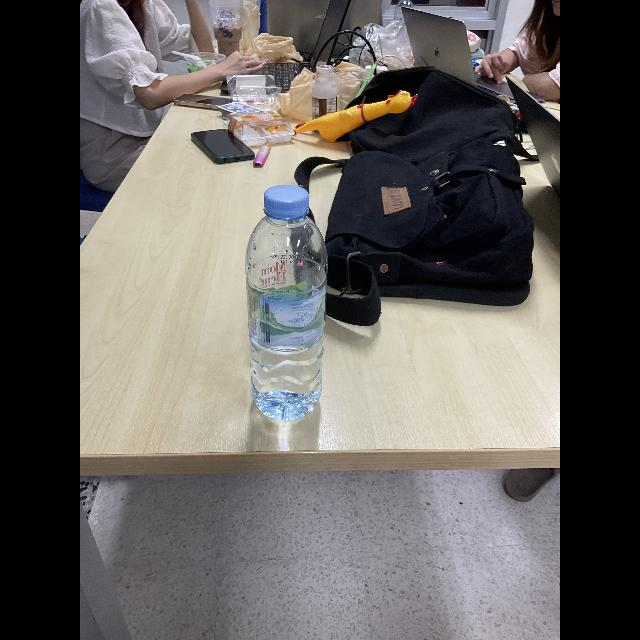plastic_bag: (276, 58, 372, 124), (350, 21, 420, 69), (243, 33, 304, 66), (237, 0, 260, 56)
plastic_bottle: (236, 180, 350, 432), (312, 65, 336, 121), (394, 1, 414, 23)
plastic_bottle_cap: (264, 182, 310, 222)
plastic_box: (224, 110, 294, 146), (226, 74, 278, 108)
plastic_cultery: (170, 50, 206, 66)
plastic_cup: (210, 0, 244, 60), (337, 69, 375, 113), (184, 52, 226, 74)
straw: (358, 64, 377, 98)
